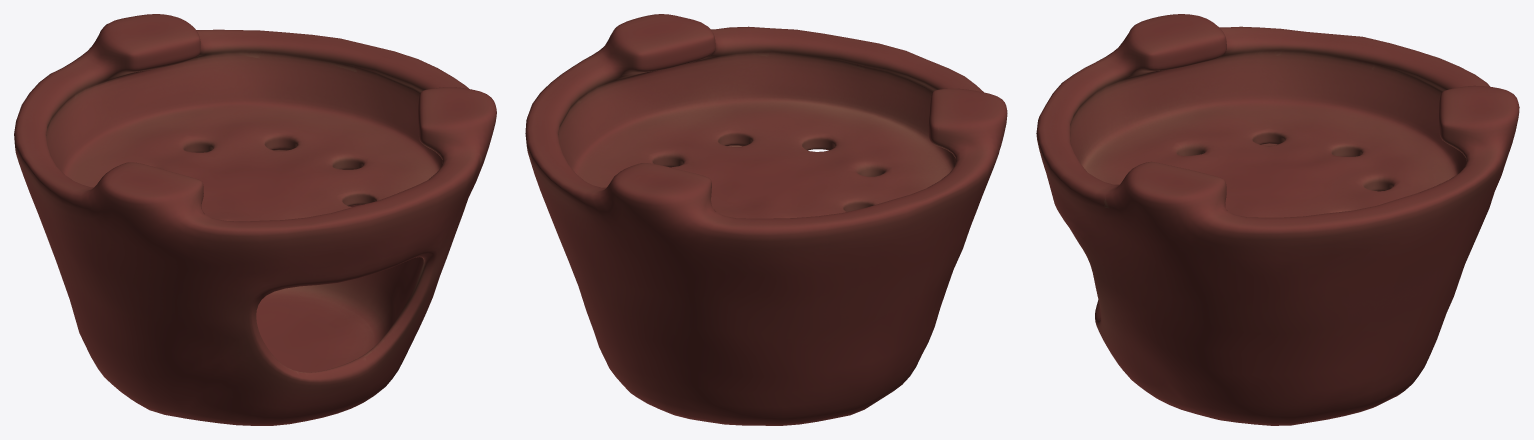
The model's file is claypot.fbx.
3 views of the same model, side by side, from view 1: azimuth 30°, elevation 25°; view 2: azimuth 150°, elevation 25°; view 3: azimuth 270°, elevation 25° (orthographic).
Parts seen in each view (by area): view 1: Cylinder; view 2: Cylinder; view 3: Cylinder.
Part boxes in pixels (x1,y1,x2,y2): Cylinder: (14, 14, 496, 425); Cylinder: (525, 14, 1007, 425); Cylinder: (1036, 14, 1519, 425).
Bounding box in the file's own units: 191 × 118 × 192.
Materials: 1 (1 with a texture image).
